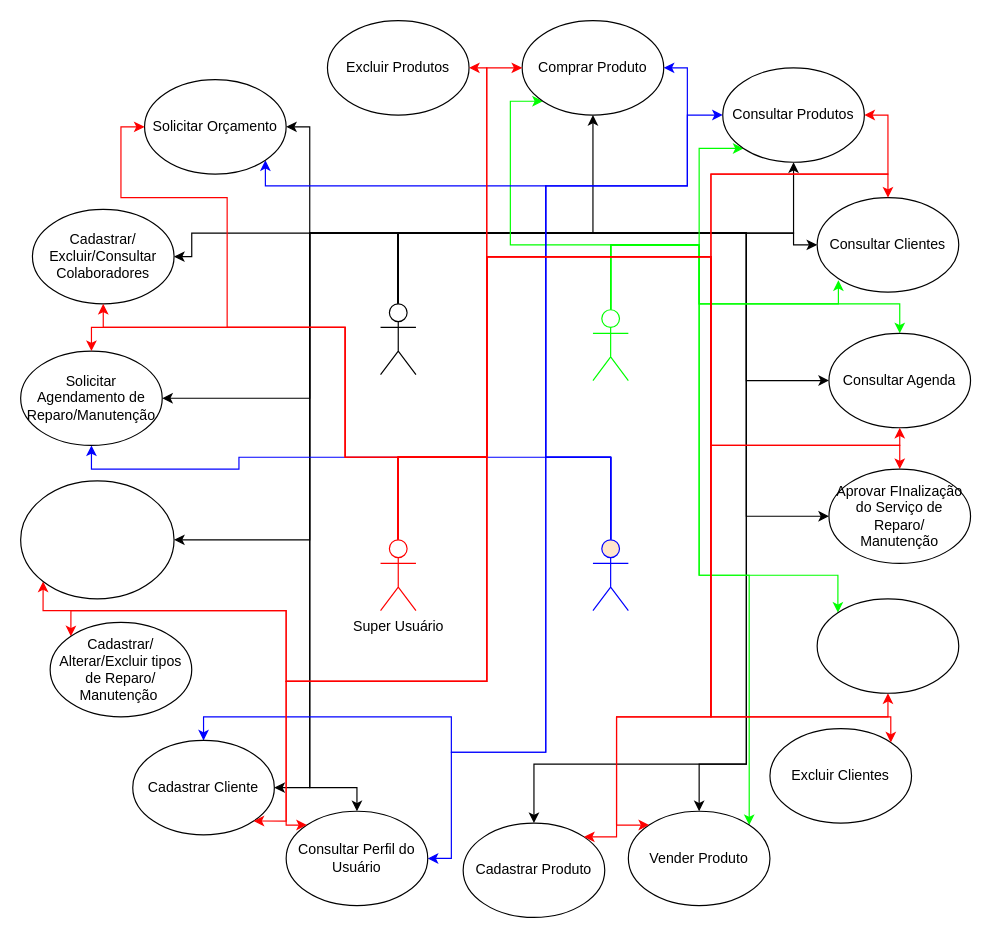
This 991x938 diagram has some shape labels left out. The box of each missing label's shape, as (x1, y1, x2, y2) in pixels:
Cadastrar/ Editar/Excluir Serviço de Reparo/Manutenção na Agenda do Colaborador: (19, 480, 174, 599)
Cliente: (592, 539, 628, 611)
Colaborador: (592, 309, 628, 381)
Finalizar Serviço de Reparo/Manutenção: (816, 598, 959, 693)
Gerente: (379, 303, 416, 375)
